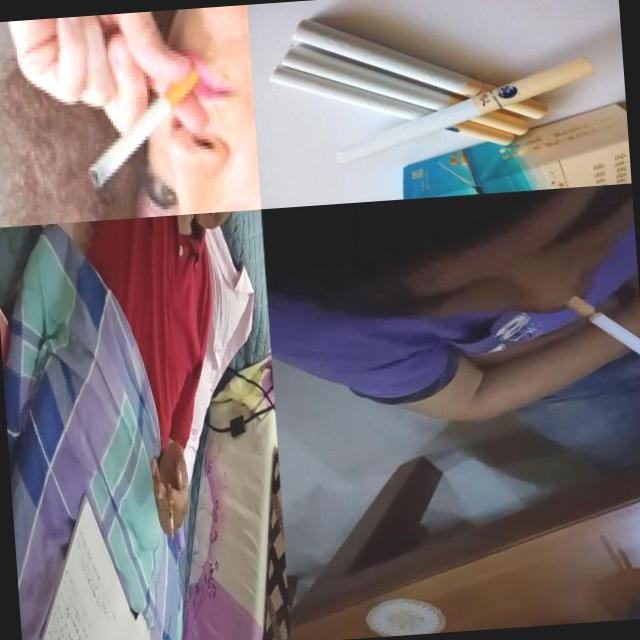cigarette: (292, 3, 550, 136), (278, 27, 530, 152), (329, 54, 600, 167), (267, 47, 515, 162), (78, 63, 206, 191), (563, 290, 640, 363), (166, 482, 174, 542)
